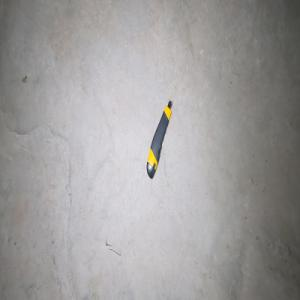Cutter: (146, 99, 172, 179)
